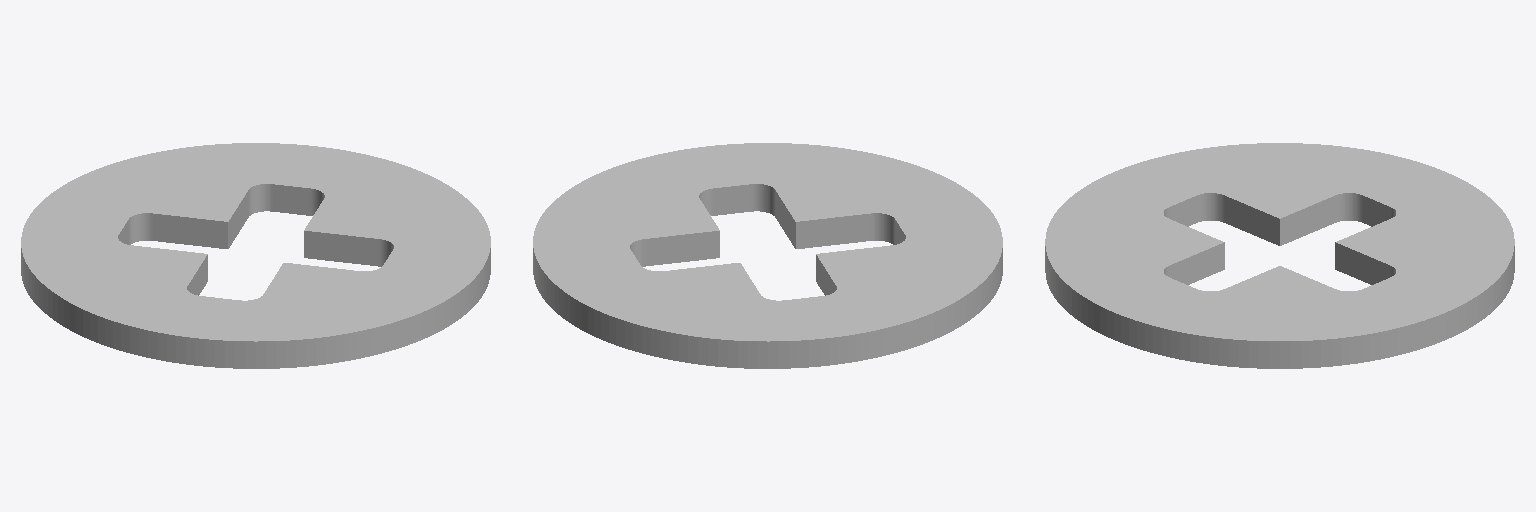
Rendered from correctedPakr5.obj.
3 renders of one model, left to right at view 1: azimuth 30°, elevation 25°; view 2: azimuth 150°, elevation 25°; view 3: azimuth 270°, elevation 25°, orthographic.
Visible parts, largest first — view 1: Curve_Curve.001; view 2: Curve_Curve.001; view 3: Curve_Curve.001.
Part boxes in pixels (x1,y1,x2,y2): Curve_Curve.001: (21, 143, 490, 368); Curve_Curve.001: (533, 143, 1002, 368); Curve_Curve.001: (1045, 143, 1514, 368).
Bounding box in the file's own units: 1.87 × 0.1209 × 1.87.